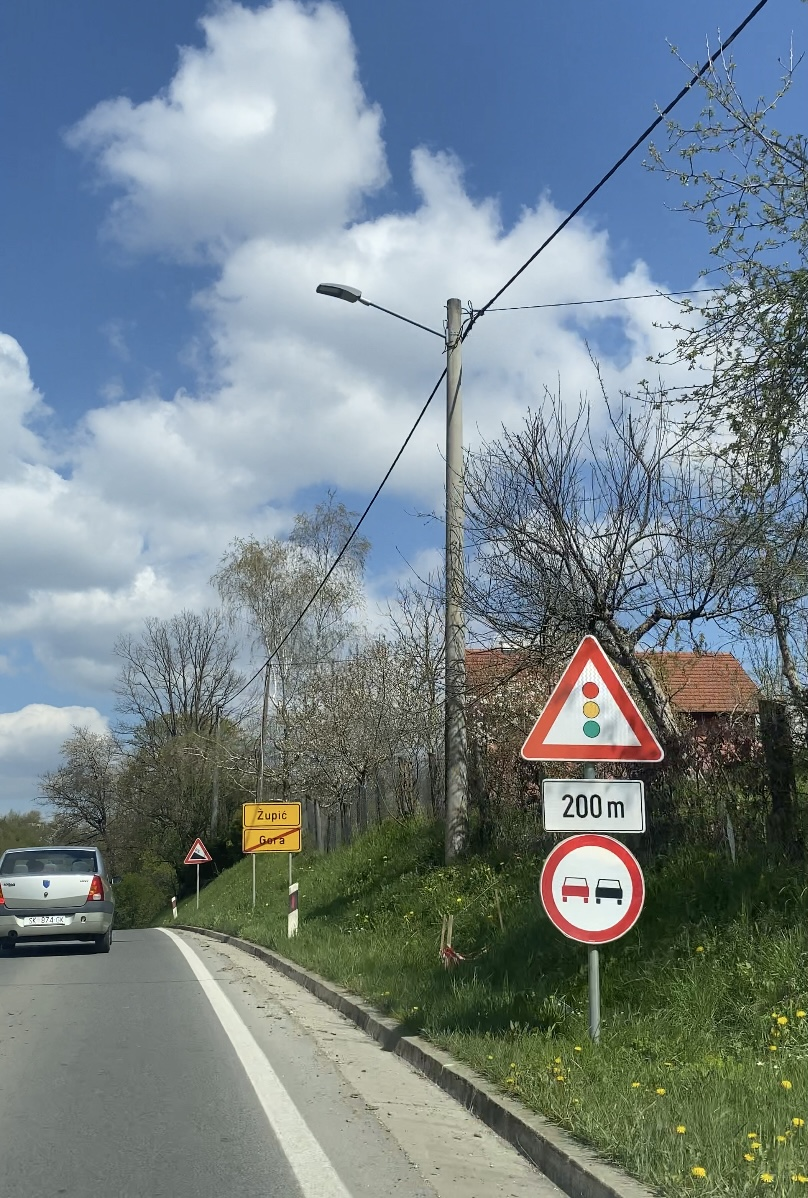Zabrana pretjecanja: (539, 834, 646, 944)
